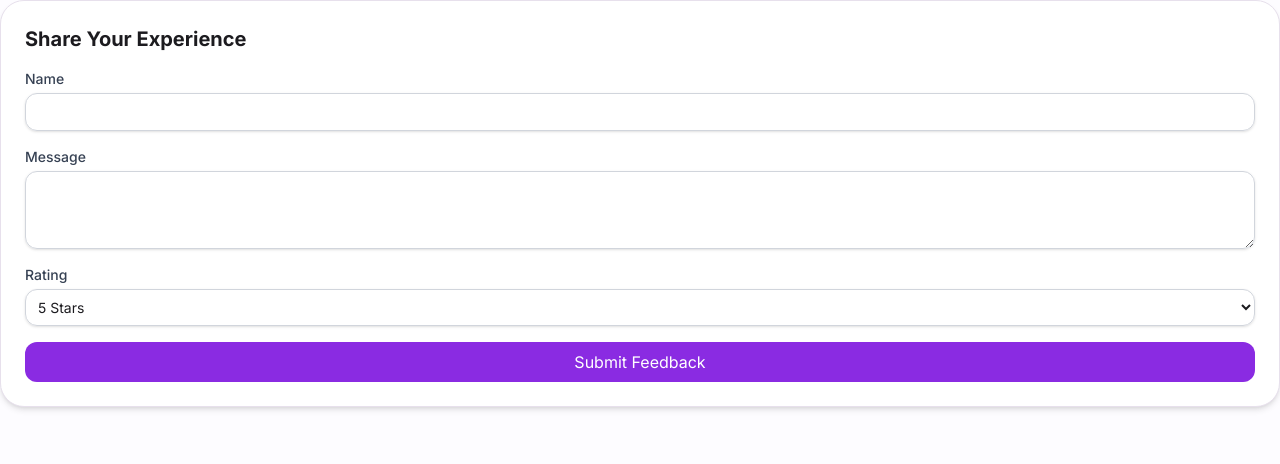
FeedbackForm Component › displays error message on submission failure
Type "Error User" into the field labelled "Name" at (640, 112), box [25,93,1255,131]
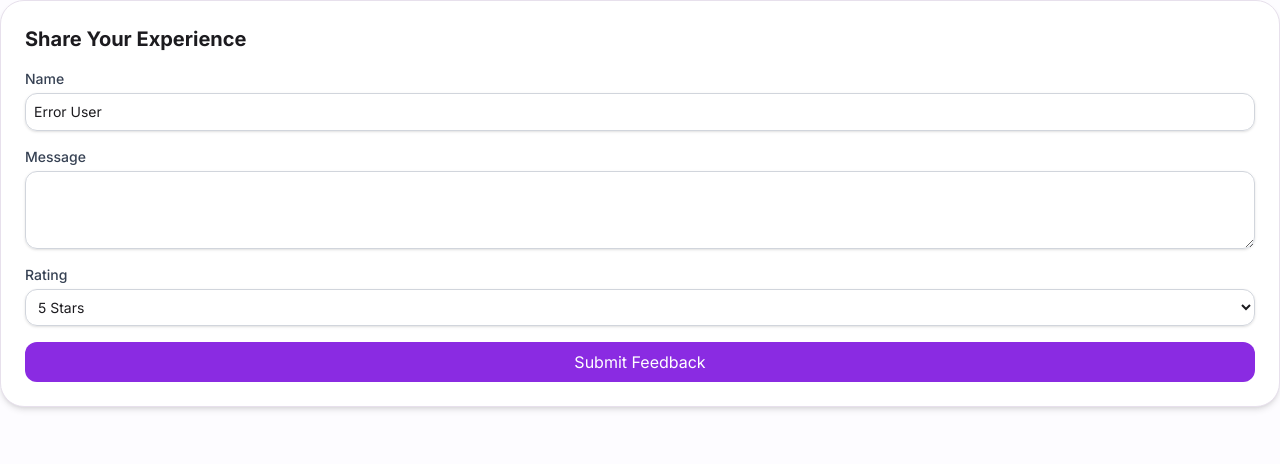
Type "This will fail" into the text box labelled "Message" at (640, 210), box [25,171,1255,249]
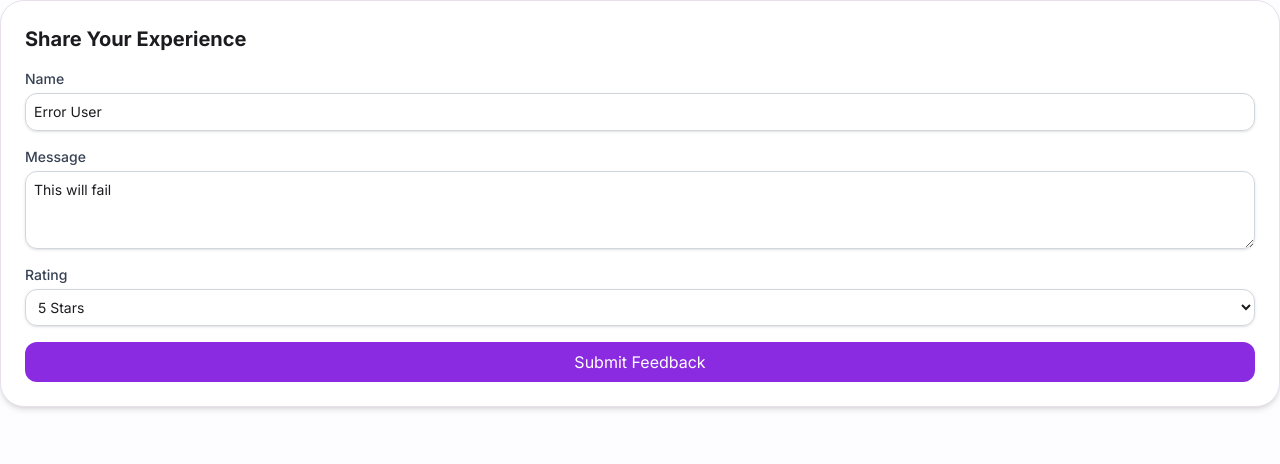
Click the button "Submit Feedback" at (640, 362), box [25,342,1255,382]
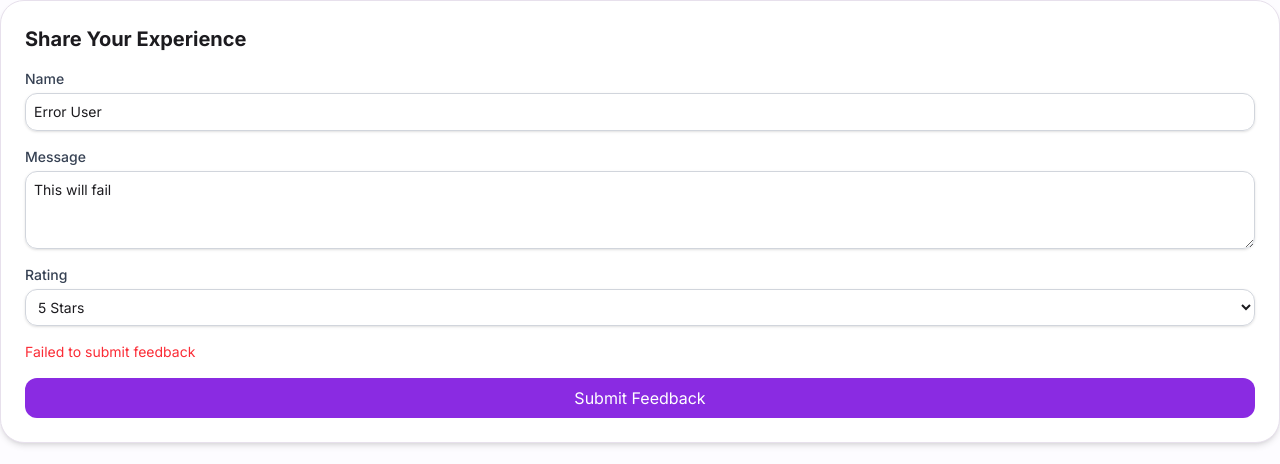
Expected: the text "Failed to submit feedback" is shown, [25,343,195,360]
